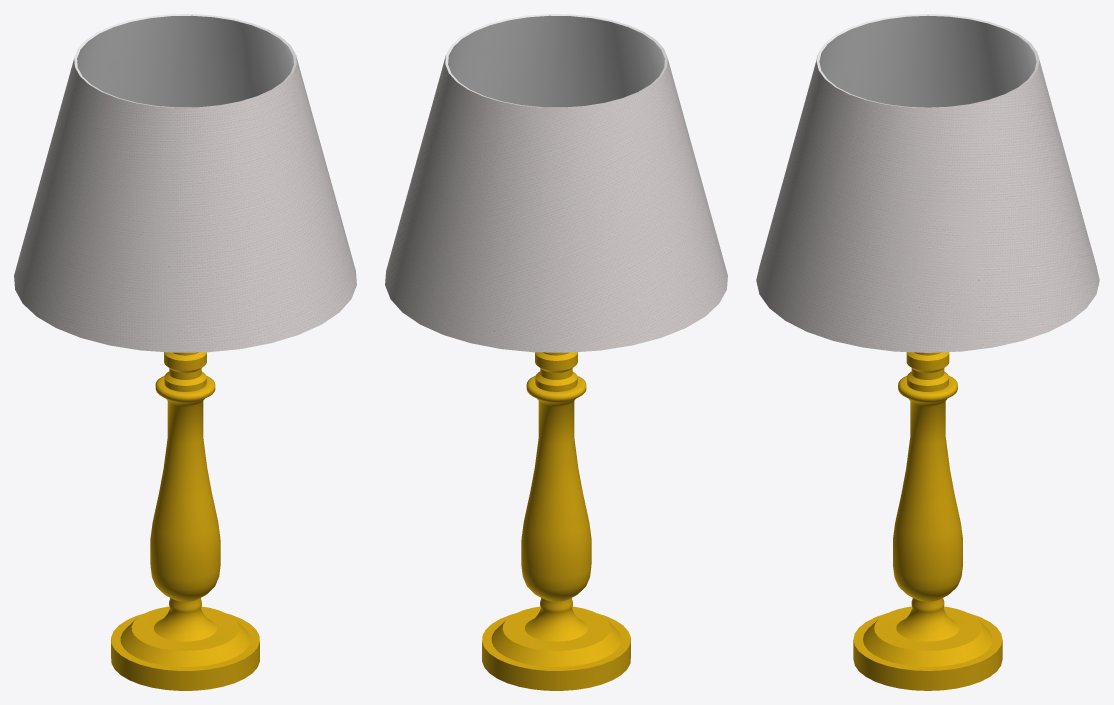
File: asset.gltf
The picture shows the model from 3 angles, left to right: view 1: azimuth 30°, elevation 25°; view 2: azimuth 150°, elevation 25°; view 3: azimuth 270°, elevation 25°; orthographic projection.
Parts seen in each view (by area): view 1: TableLamp7; view 2: TableLamp7; view 3: TableLamp7.
Part boxes in pixels (<box>): TableLamp7: <box>14,14,356,690</box>; TableLamp7: <box>385,14,727,690</box>; TableLamp7: <box>756,14,1099,690</box>.
Size of the model in its own units: 0.2402 by 0.4615 by 0.2402.
1 material, 1 textured.
